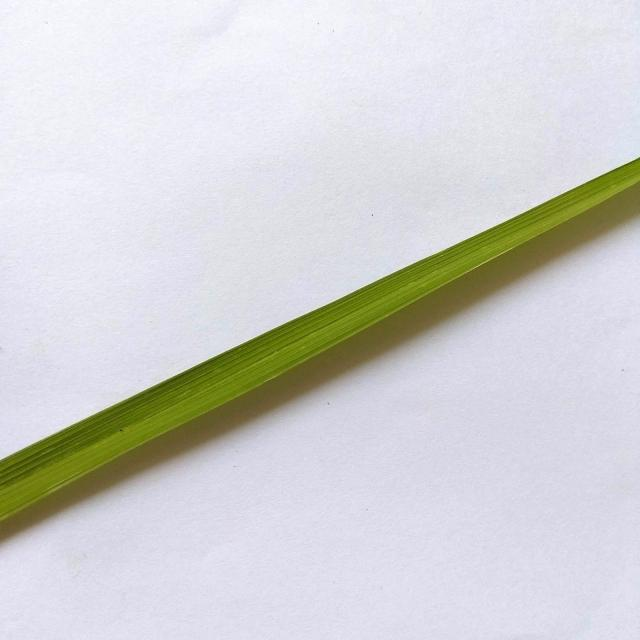healthy: (0, 126, 640, 535)
